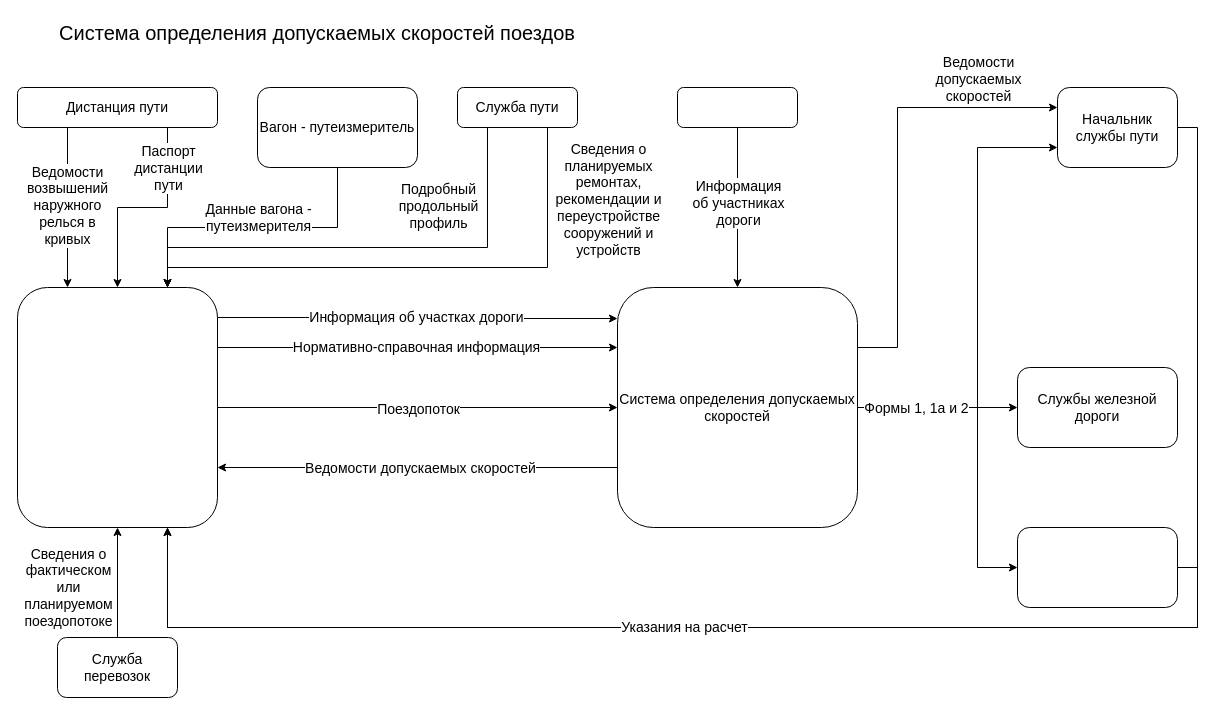
The diagram is 1223 pixels wide and 715 high, and some of its shapes have lost their labels. Each missing label, with the centre of its shape:
База банных: the point at 737,107
Департамент пути и сооружений ОАО "РЖД": the point at 1097,567
Инженер службы пути: the point at 117,407
